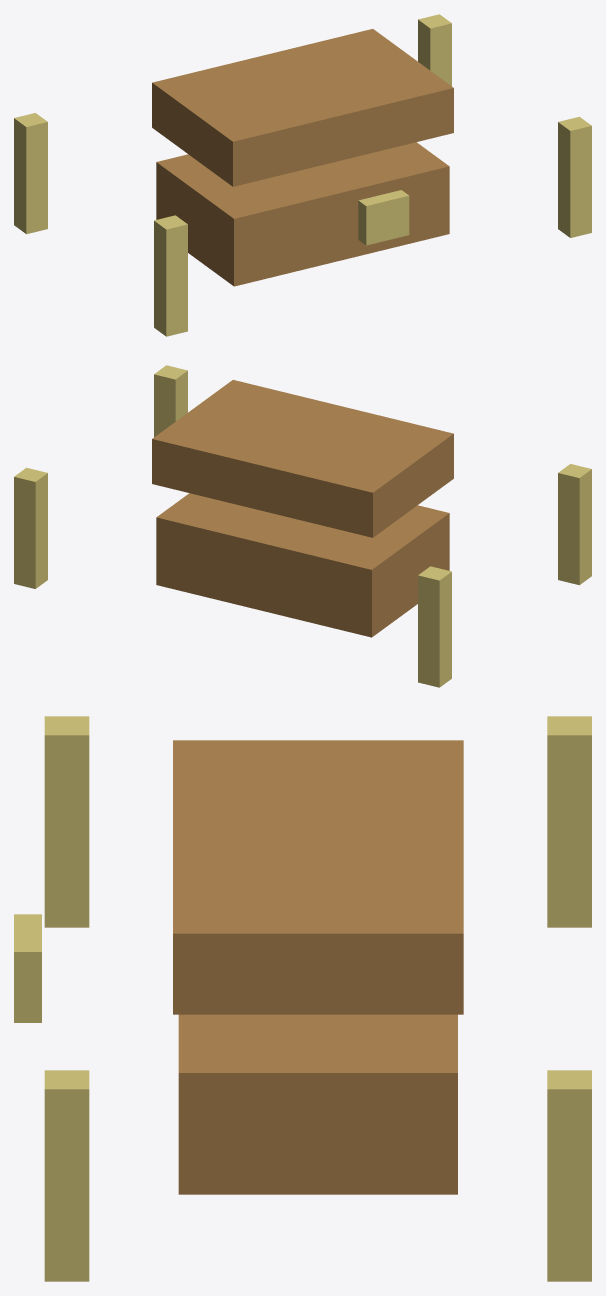
File: tribal_chest.dae
The picture shows the model from 3 angles, top to bottom: view 1: azimuth 30°, elevation 25°; view 2: azimuth 150°, elevation 25°; view 3: azimuth 270°, elevation 25°; orthographic projection. The views are drawn at different scales.
Parts seen in each view (by area): view 1: Cube.001, Cube, Cube.005, Cube.004, Cube.003, Cube.006, Cube.002; view 2: Cube.001, Cube, Cube.005, Cube.003, Cube.002, Cube.004; view 3: Cube.001, Cube, Cube.005, Cube.004, Cube.003, Cube.002, Cube.006.
Boxes of the visible parts, <box> form: Cube.001: <box>152,29,453,186</box>; Cube: <box>156,142,449,286</box>; Cube.005: <box>154,215,187,336</box>; Cube.004: <box>558,116,591,237</box>; Cube.003: <box>14,113,47,234</box>; Cube.006: <box>358,190,409,245</box>; Cube.002: <box>418,14,451,86</box>; Cube.001: <box>152,380,453,537</box>; Cube: <box>156,493,449,637</box>; Cube.005: <box>558,464,591,585</box>; Cube.003: <box>418,566,451,687</box>; Cube.002: <box>14,467,47,588</box>; Cube.004: <box>154,365,187,437</box>; Cube.001: <box>173,740,463,1014</box>; Cube: <box>178,1014,457,1194</box>; Cube.005: <box>44,716,89,927</box>; Cube.004: <box>44,1070,89,1281</box>; Cube.003: <box>547,716,591,927</box>; Cube.002: <box>547,1070,591,1281</box>; Cube.006: <box>14,914,41,1022</box>.
Size of the model in its own units: 158 by 104 by 52.
